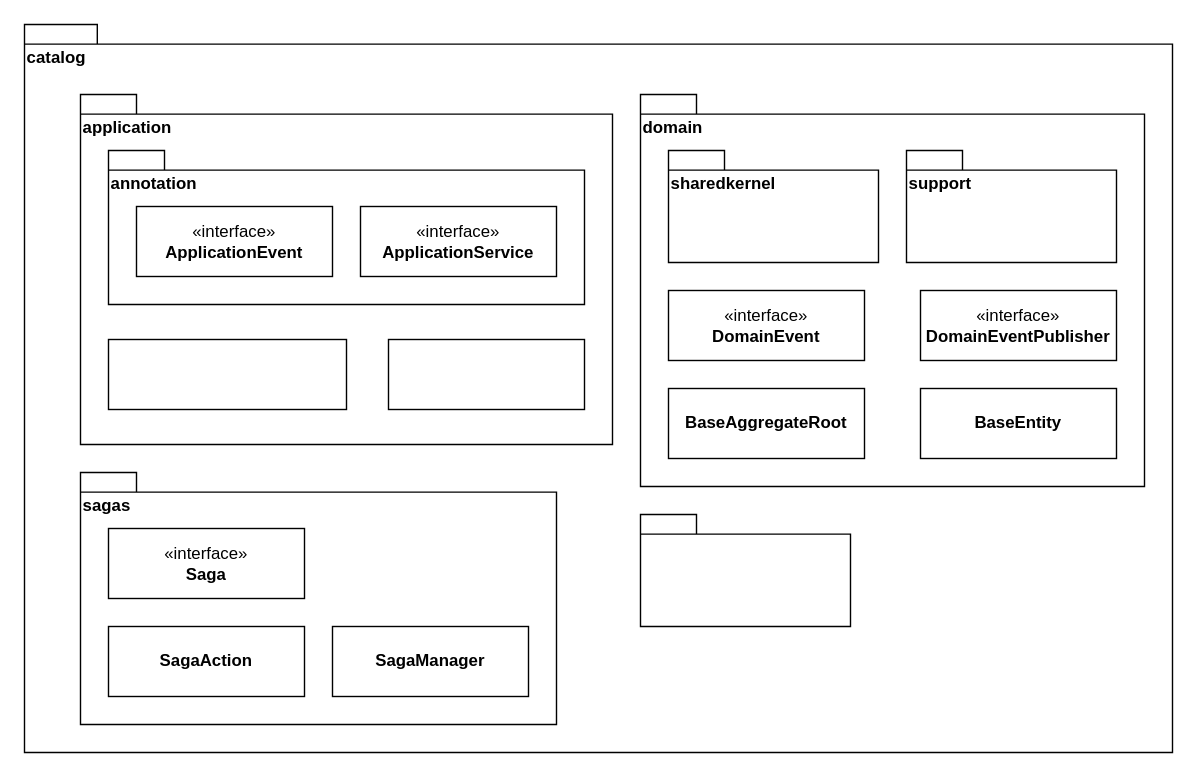
Some shapes in this 1197 by 777 pixel diagram are drawn without their labels. The centre of each missing label's shape, as x and y in pixels:
"infrastructure" belongs at pixel 744 569.
"SystemUser" belongs at pixel 485 374.
"«interface» ApplicationEventPublisher" belongs at pixel 226 374.
